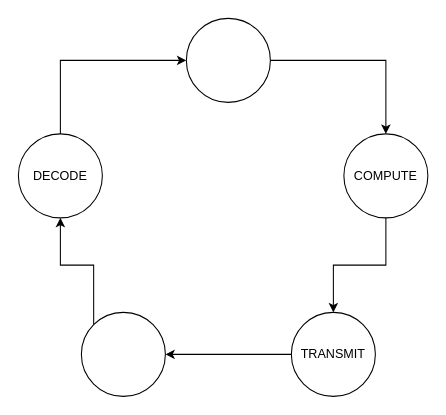
This 446x415 diagram has some shape labels left out. The shapes that lost their labels are listed below. From the top down, each one's centre as x and y in pixels, then its label:
(x=227, y=59): LOAD
(x=122, y=353): IDLE
